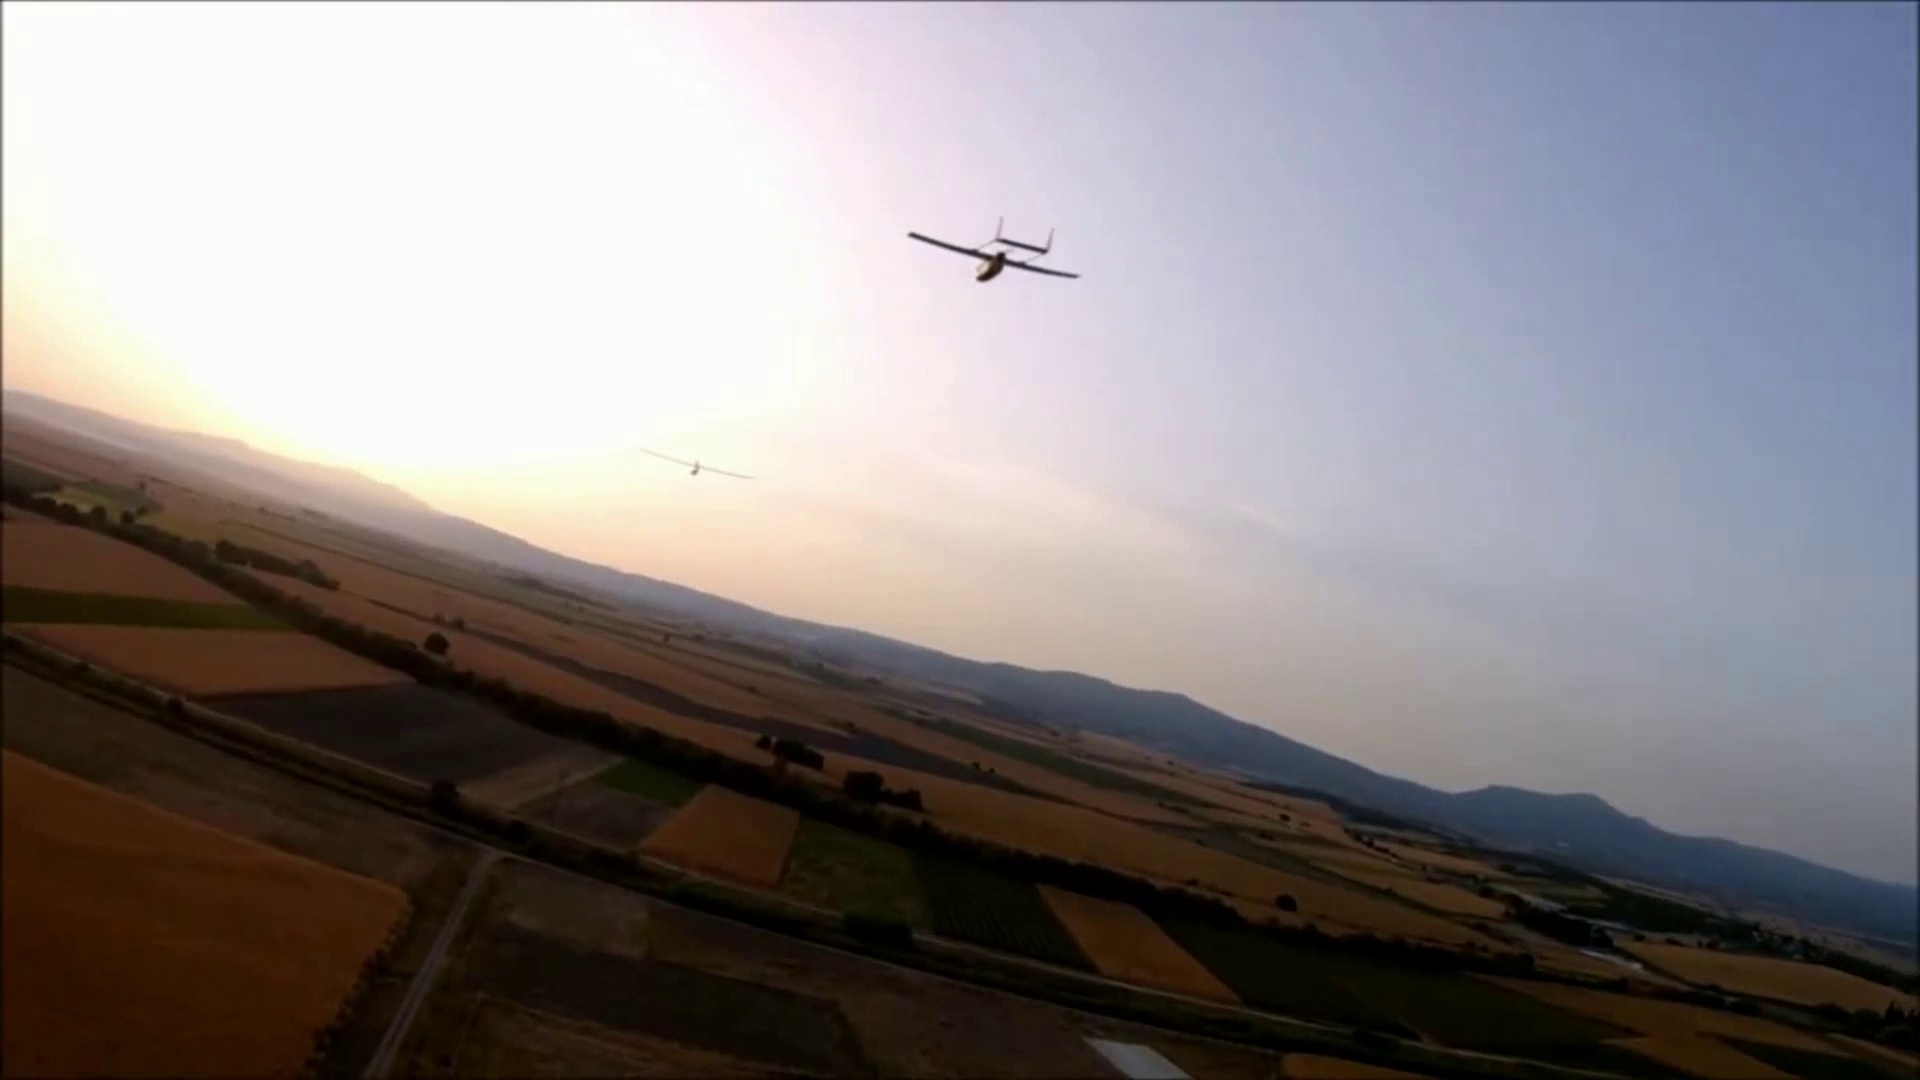airplane: (906, 221, 1083, 283)
